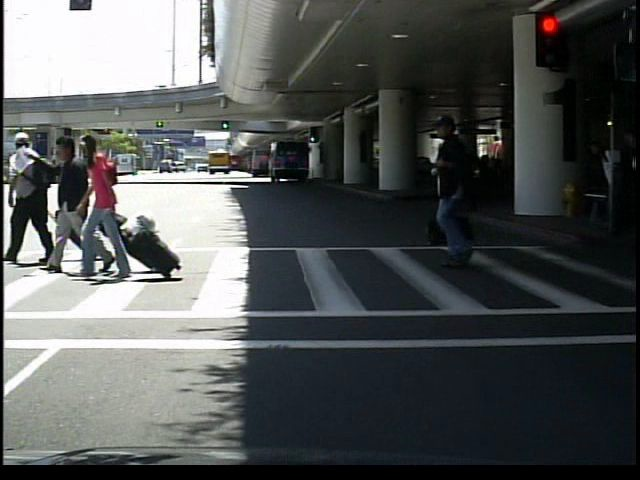person: (420, 113, 504, 269)
